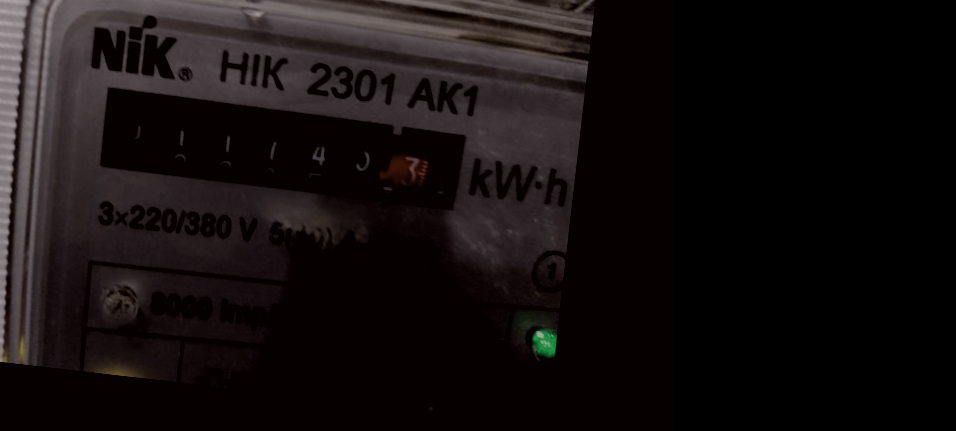0: (121, 104, 148, 145), (171, 108, 193, 151)
1: (217, 115, 238, 157)
3: (351, 133, 376, 178), (398, 151, 422, 191)
4: (307, 128, 331, 170)
7: (260, 120, 288, 166)
screen: (78, 72, 476, 223)
